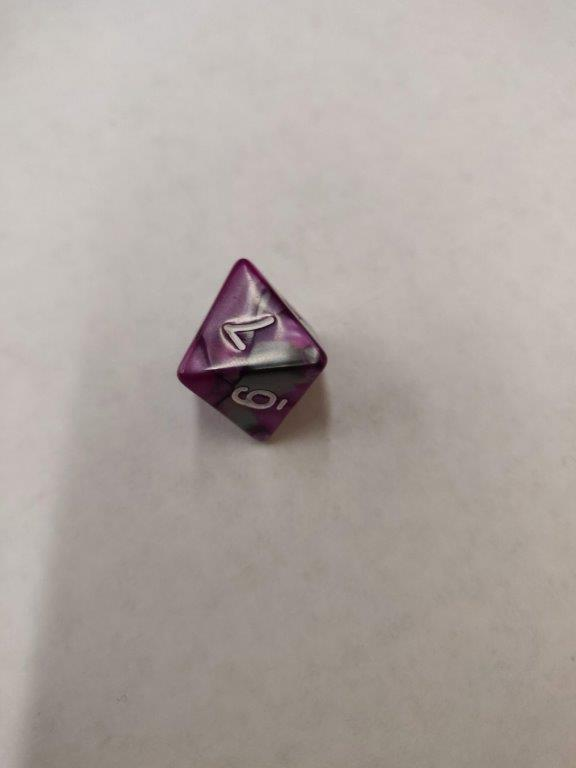d8-7: (172, 257, 331, 444)
